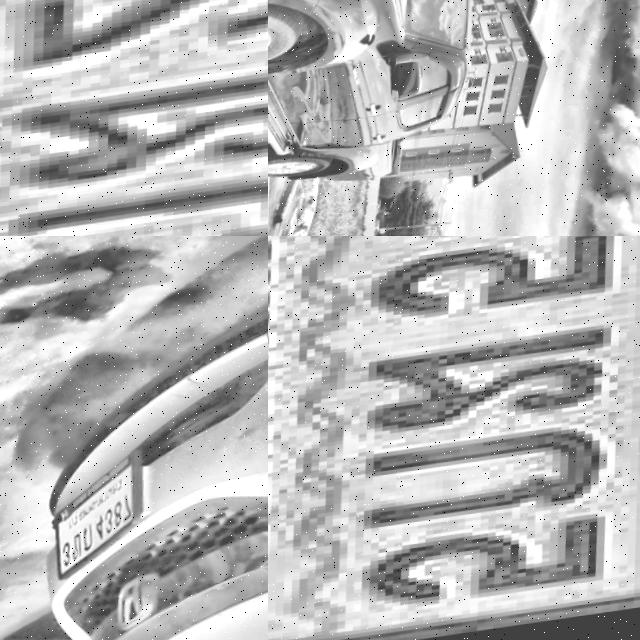license-plate: (268, 236, 640, 640), (0, 0, 268, 236), (0, 541, 54, 630)
